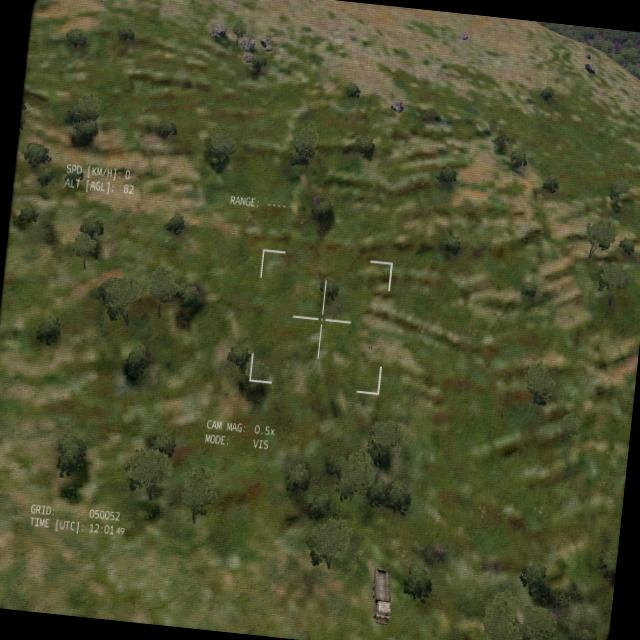truck: (364, 564, 396, 627)
